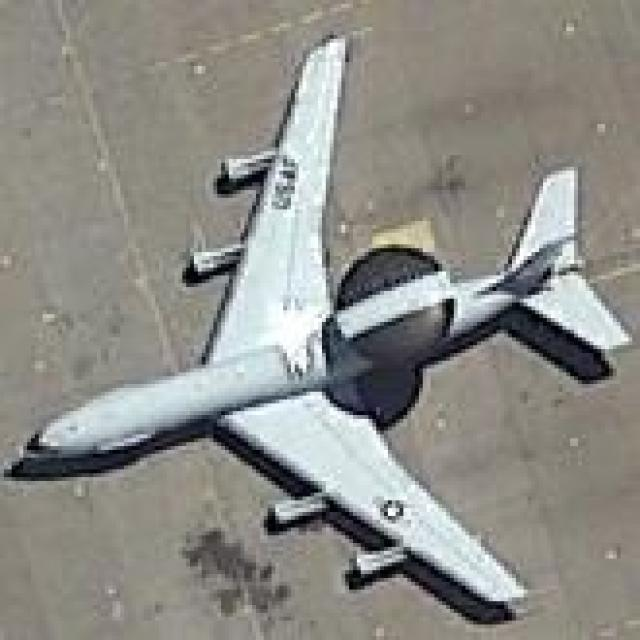E-3_TopDown: (4, 27, 632, 625)
